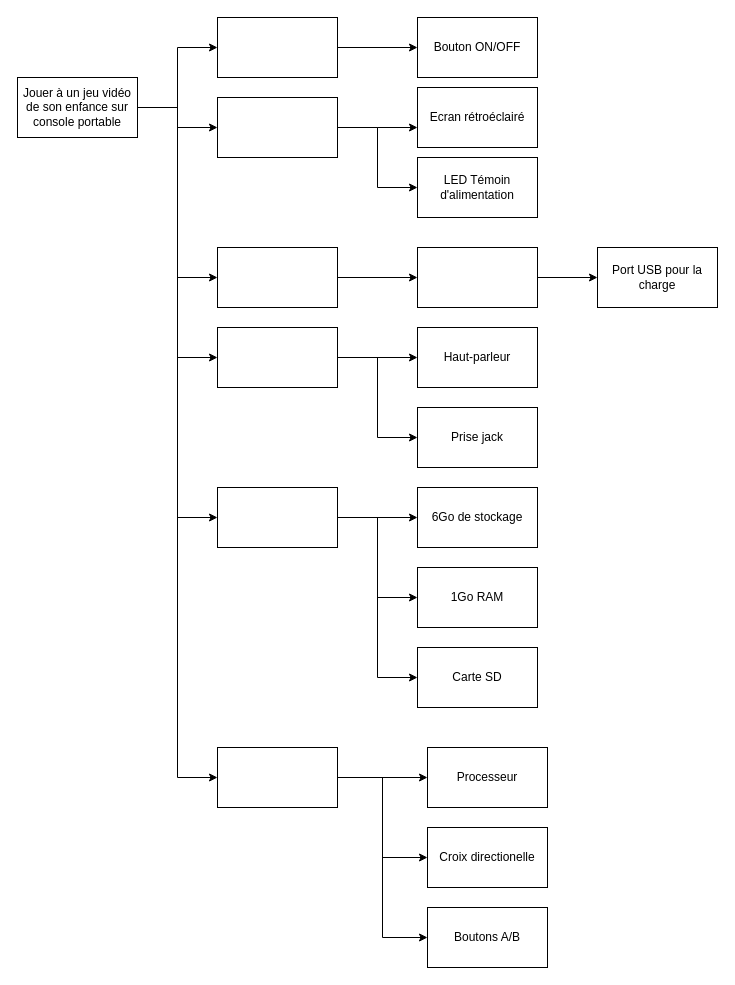
The diagram is 735 pixels wide and 985 high, and some of its shapes have lost their labels. The shapes that lost their labels are listed below. From the top down, each one's centre as x and y in pixels, then its label:
At point (277, 47): "Allumer la console".
At point (277, 127): "Affichage".
At point (277, 277): "Alimentation".
At point (477, 277): "Batterie".
At point (277, 357): "Produire du son".
At point (277, 517): "Stockage".
At point (277, 777): "Controle".
